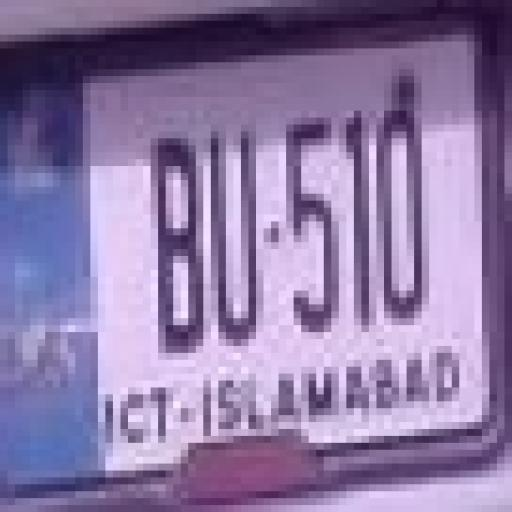0: (372, 108, 432, 321)
1: (342, 106, 378, 331)
5: (288, 114, 340, 346)
B: (153, 130, 204, 360)
U: (205, 124, 262, 353)
